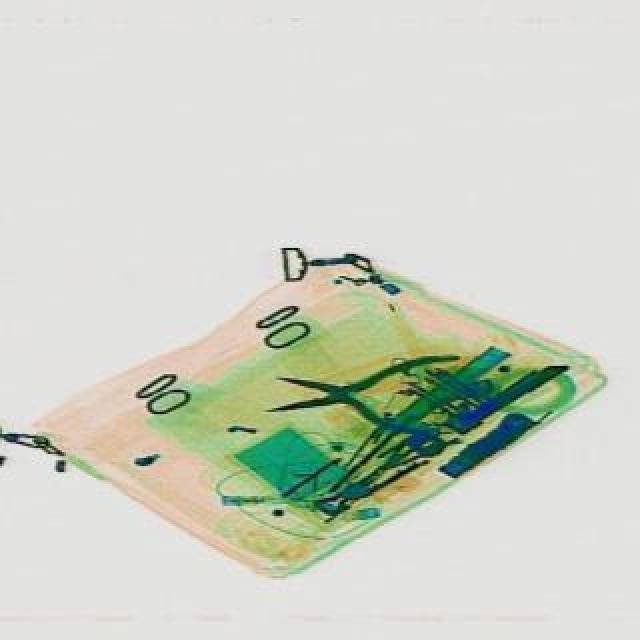wrench: (260, 350, 458, 434)
